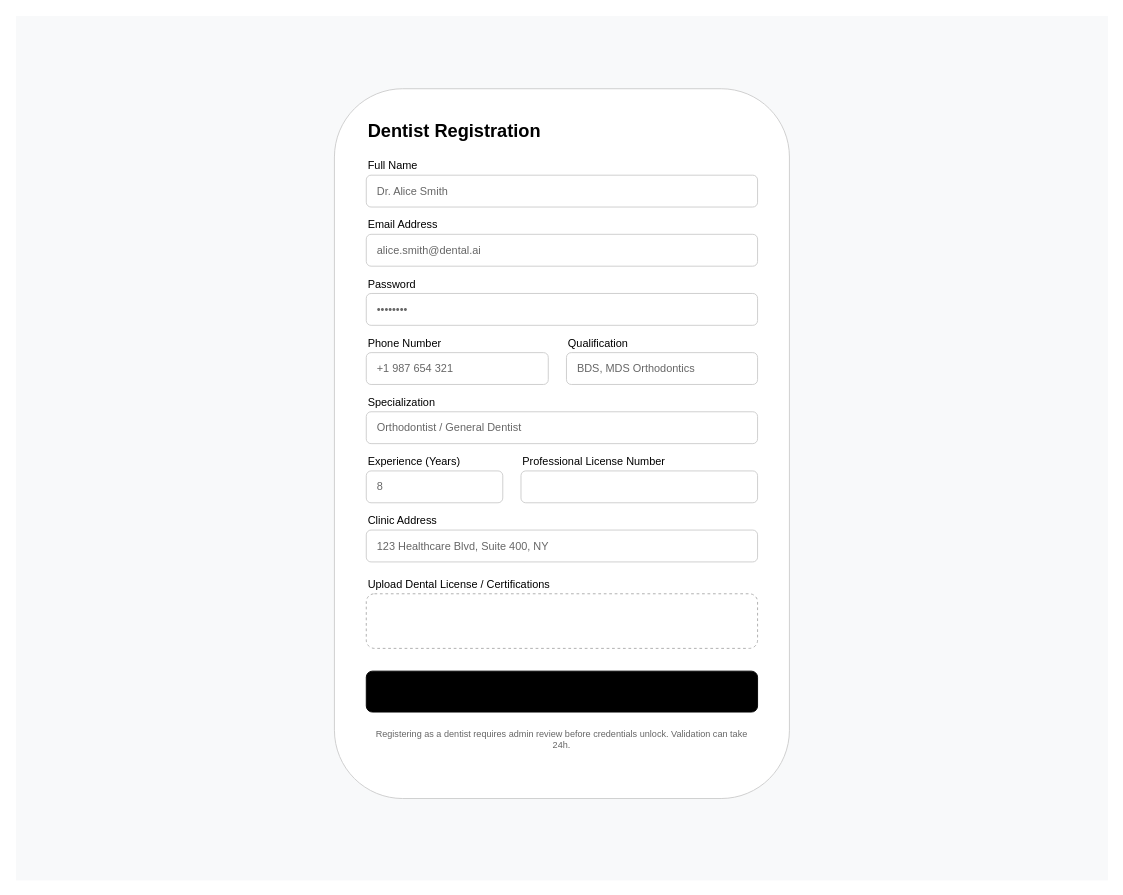
The diagram is 1123 pixels wide and 895 high, and some of its shapes have lost their labels. The shapes that lost their labels are listed below. From the top down, each one's centre as x and y in pixels, then its label:
the point at 639,486: DEN-19485720-US
the point at 561,620: [Icon] drag-and-drop license.pdf or Browse
the point at 561,691: Submit Professional Application
